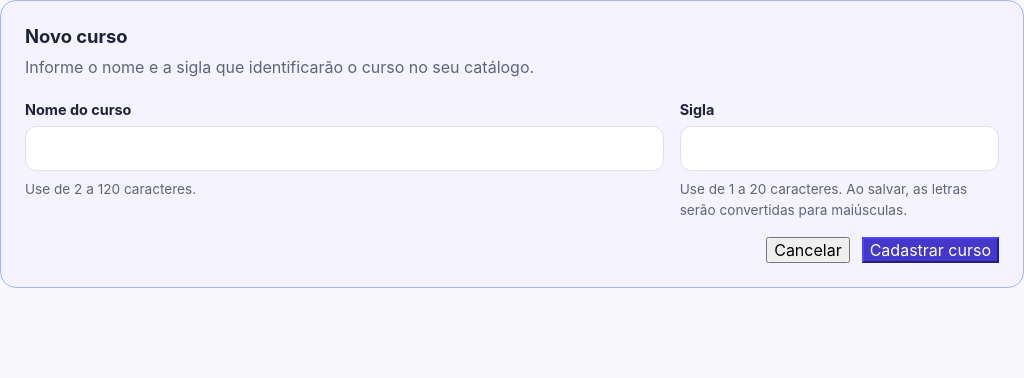
Test: cadastro e validação dos campos › recusa limites inválidos e foca A / CD
This screenshot has width=1024, height=378.
Type "A" into the field labelled "Nome do curso" at (344, 148), box [25,126,664,171]
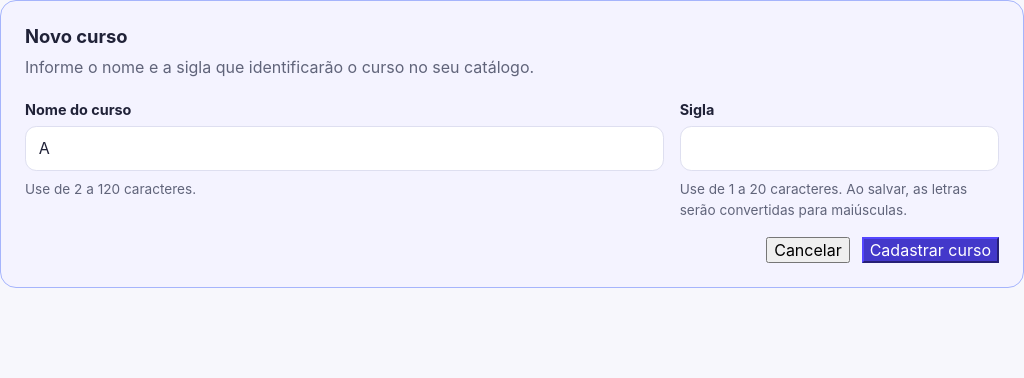
Type "CD" into the field labelled "Sigla" at (839, 148), box [680,126,999,171]
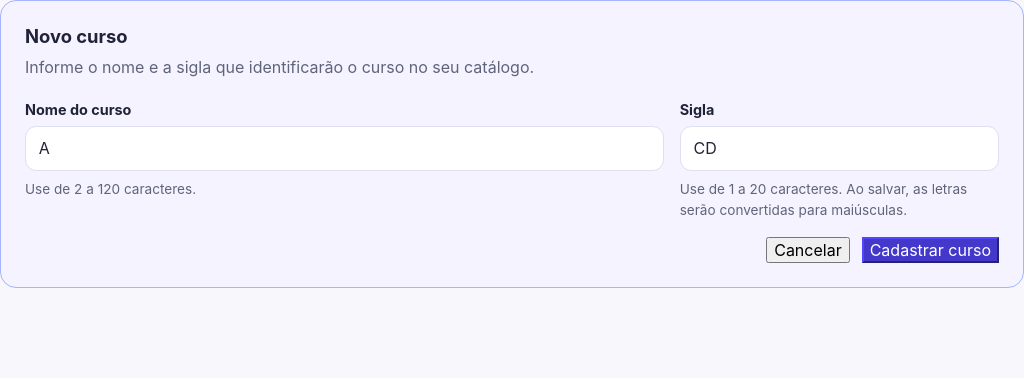
Submit the form, box [25,101,999,263]
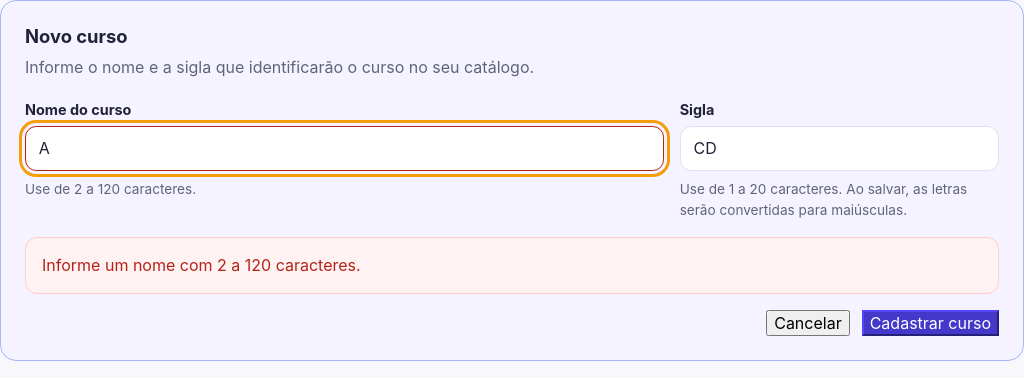
Check: the message reads "Informe um nome com 2 a 120 caracteres.", box [42,255,361,275]
